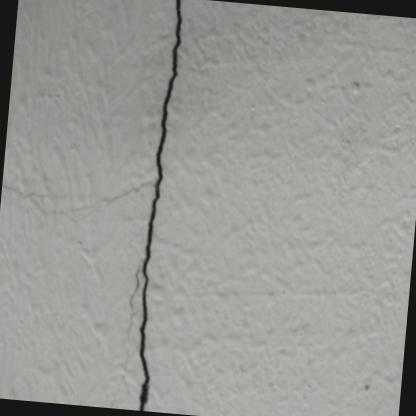crack: (138, 0, 181, 411)
